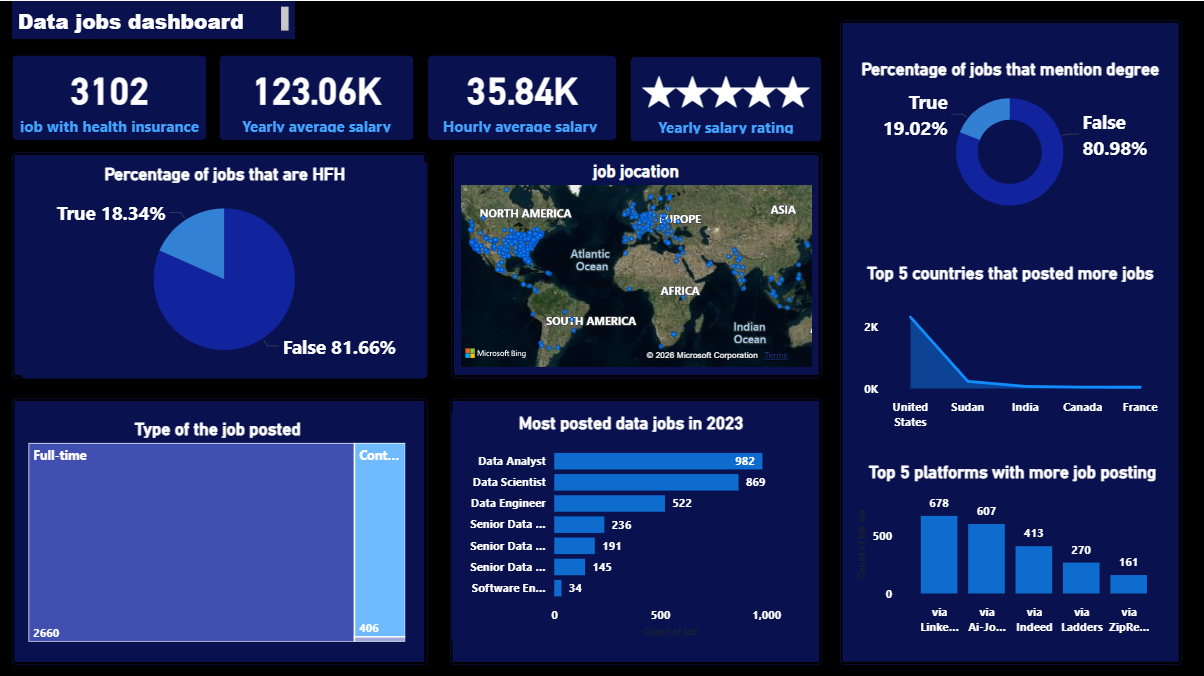

This screenshot's page, from the dashboard's own definition file:
{"tool":"powerbi","page":{"name":"Page 1","canvas":[1280,720],"ordinal":0},"visuals":[{"type":"shape","box":[13.3,161.3,440.4,239.2],"z":0},{"type":"shape","box":[478.3,161.3,392.9,239.2],"z":1000},{"type":"shape","box":[476.4,421.4,394.8,282.8],"z":2000},{"type":"shape","box":[13.3,421.4,440.4,282.8],"z":3000},{"type":"shape","box":[890.2,20.9,362.6,683.3],"z":4000},{"type":"card","fields":{"Values":["Avg(jan-copy.salary_year_avg)"]},"box":[232.2,57.3,206.8,90.7],"z":5000},{"type":"card","fields":{"Values":["Sum(jan-copy.salary_hour_avg)"]},"box":[453.3,57.3,200.4,90.7],"z":6000},{"type":"card","fields":{"Values":["jan-copy.Yearly_salary_rating"]},"box":[668.1,58.9,203.6,90.7],"z":7000},{"type":"donutChart","title":"Percentage of jobs that mention degree","fields":{"Category":["jan-copy.job_no_degree_mention"],"Y":["CountNonNull(jan-copy.job_title_short)"]},"box":[897.8,58.8,347.4,182.2],"z":8000},{"type":"areaChart","title":"Top 5 countries that posted more jobs","fields":{"Category":["jan-copy.job_country"],"Y":["CountNonNull(jan-copy.job_country)"]},"box":[897.8,275.2,347.4,189.8],"z":9000},{"type":"pieChart","title":"Percentage of jobs that are HFH","fields":{"Y":["CountNonNull(jan-copy.job_title_short)"],"Category":["jan-copy.job_work_from_home"]},"box":[22.8,170.8,430.9,229.7],"z":10000},{"type":"map","fields":{"Category":["jan-copy.job_location"]},"box":[483.5,170.2,381.7,222.7],"z":11000},{"type":"clusteredColumnChart","title":"Top 5 platforms with more job posting","fields":{"Category":["jan-copy.job_via"],"Y":["CountNonNull(jan-copy.job_via)"]},"box":[899.7,485.9,345.5,195.5],"z":12000},{"type":"card","fields":{"Values":["CountNonNull(jan-copy.job_health_insurance)"]},"box":[12.7,57.3,206.8,90.7],"z":13000},{"type":"treemap","title":"Type of the job posted","fields":{"Details":["jan-copy.job_schedule_type"],"Values":["CountNonNull(jan-copy.job_title_short)"]},"box":[22.8,440.4,415.7,246.8],"z":14000},{"type":"clusteredBarChart","title":"Most posted data jobs in  2023","fields":{"Category":["jan-copy.job_title_short"],"Y":["CountNonNull(jan-copy.job_title_short)"]},"box":[478.1,434.6,379.8,247.6],"z":15000},{"type":"textbox","box":[13.3,0,299.9,39.9],"z":16000}]}

Visuals, with their boxes in screenshot pixels (x1, y1, x2, y2), scaled from the page's 1280x720 canvas onto the 1204x676 screenshot:
shape: (left=13, top=151, right=427, bottom=376)
shape: (left=450, top=151, right=819, bottom=376)
shape: (left=448, top=396, right=819, bottom=661)
shape: (left=13, top=396, right=427, bottom=661)
shape: (left=837, top=20, right=1178, bottom=661)
card - Avg(jan-copy.salary_year_avg): (left=218, top=54, right=413, bottom=139)
card - Sum(jan-copy.salary_hour_avg): (left=426, top=54, right=615, bottom=139)
card - jan-copy.Yearly_salary_rating: (left=628, top=55, right=820, bottom=140)
"Percentage of jobs that mention degree" donutChart: (left=844, top=55, right=1171, bottom=226)
"Top 5 countries that posted more jobs" areaChart: (left=844, top=258, right=1171, bottom=437)
"Percentage of jobs that are HFH" pieChart: (left=21, top=160, right=427, bottom=376)
map - jan-copy.job_location: (left=455, top=160, right=814, bottom=369)
"Top 5 platforms with more job posting" clusteredColumnChart: (left=846, top=456, right=1171, bottom=640)
card - CountNonNull(jan-copy.job_health_insurance): (left=12, top=54, right=206, bottom=139)
"Type of the job posted" treemap: (left=21, top=413, right=412, bottom=645)
"Most posted data jobs in  2023" clusteredBarChart: (left=450, top=408, right=807, bottom=641)
textbox: (left=13, top=0, right=295, bottom=37)
